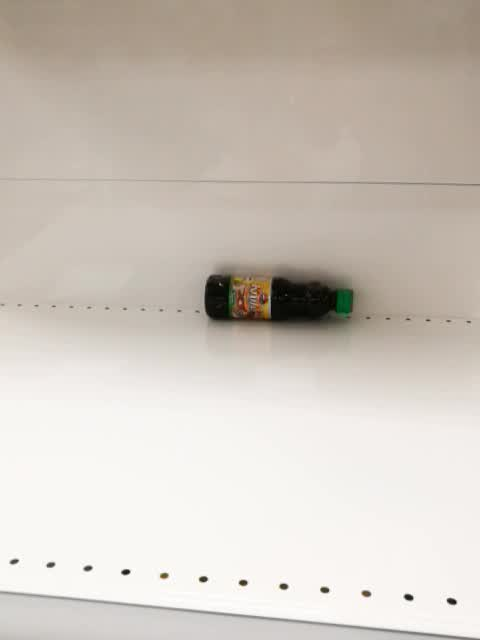cookingoil: (202, 269, 357, 324)
